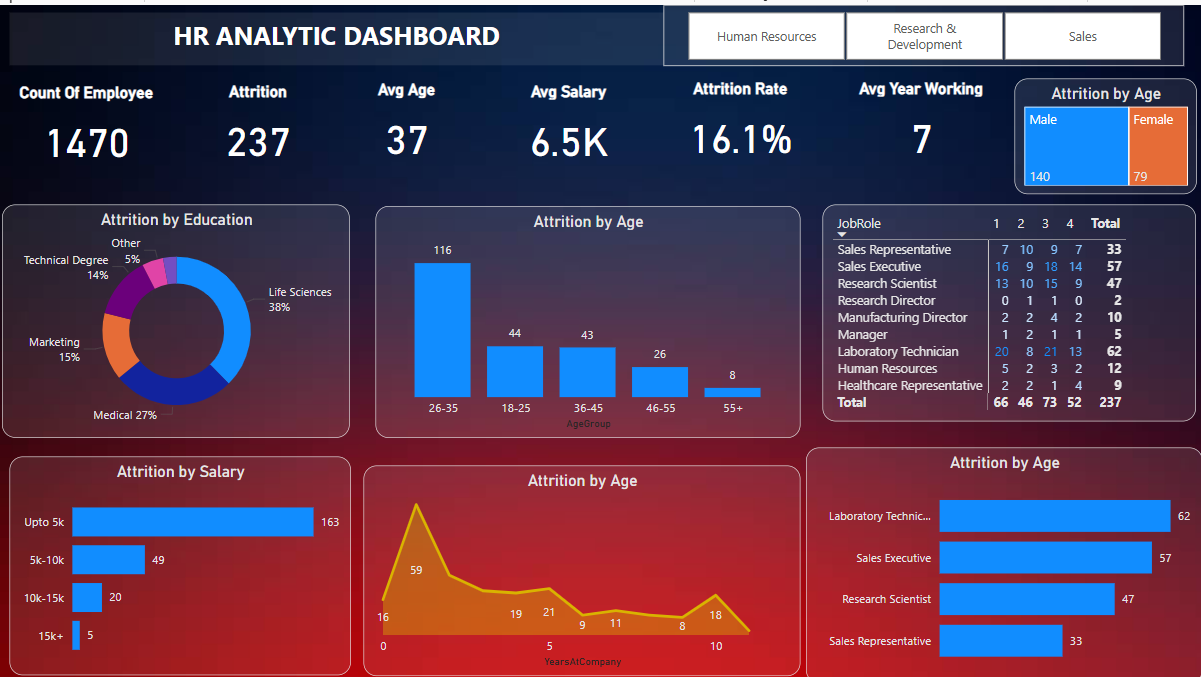

What the dashboard file says about the page in this screenshot:
{"tool":"powerbi","page":{"name":"Page 1","canvas":[1280,720],"ordinal":0},"visuals":[{"type":"card","title":"Count Of Employee","fields":{"Values":["CountNonNull(HR_Analytics.EmpID)"]},"box":[14.6,82,162.9,99.1],"z":0},{"type":"card","title":"Attrition","fields":{"Values":["Sum(HR_Analytics.AttritionCount)"]},"box":[201.7,81.5,151.6,98.7],"z":1000},{"type":"card","title":"Attrition Rate","fields":{"Values":["HR_Analytics.AttritionRate"]},"box":[707.9,78.7,163,100.1],"z":2000},{"type":"card","title":"Avg Age","fields":{"Values":["Avg(HR_Analytics.Age)"]},"box":[353.3,80.1,164.5,98.7],"z":3000},{"type":"card","title":"Avg Salary","fields":{"Values":["Avg(HR_Analytics.MonthlyIncome)"]},"box":[524.9,81.5,164.5,98.7],"z":4000},{"type":"card","title":"Avg Year Working","fields":{"Values":["Avg(HR_Analytics.YearsAtCompany)"]},"box":[898.1,78.7,164.5,98.7],"z":5000},{"type":"donutChart","title":" Attrition by Education","fields":{"Category":["HR_Analytics.EducationField"],"Y":["Sum(HR_Analytics.AttritionCount)"]},"box":[7.2,211.7,369,247.4],"z":6000},{"type":"columnChart","title":" Attrition by Age","fields":{"Category":["HR_Analytics.AgeGroup"],"Y":["Sum(HR_Analytics.AttritionCount)"]},"box":[401.9,213.1,450.5,246],"z":7000},{"type":"pivotTable","fields":{"Rows":["HR_Analytics.JobRole"],"Columns":["HR_Analytics.JobSatisfaction"],"Values":["Sum(HR_Analytics.AttritionCount)"]},"box":[876.7,211.7,396.2,230.3],"z":8000},{"type":"barChart","title":" Attrition by Salary","fields":{"Category":["HR_Analytics.SalarySlab"],"Y":["Sum(HR_Analytics.AttritionCount)"]},"box":[14.3,479.1,361.8,231.7],"z":9000},{"type":"barChart","title":" Attrition by Age","fields":{"Y":["Sum(HR_Analytics.AttritionCount)"],"Category":["HR_Analytics.JobRole"]},"box":[859.5,469.1,420.5,250.3],"z":10000},{"type":"stackedAreaChart","title":" Attrition by Age","fields":{"Category":["HR_Analytics.YearsAtCompany"],"Y":["Sum(HR_Analytics.AttritionCount)"]},"box":[389,487.7,463.4,223.1],"z":10001},{"type":"treemap","title":" Attrition by Age","fields":{"Group":["HR_Analytics.Gender"],"Values":["Sum(HR_Analytics.AttritionCount)"]},"box":[1079.8,78.7,193.1,123],"z":10002},{"type":"slicer","fields":{"Values":["HR_Analytics.Department"]},"box":[707.9,0,552,64.4],"z":10003},{"type":"textbox","box":[14.3,8.6,693.6,55.8],"z":10004}]}

Visuals, with their boxes in screenshot pixels (x1, y1, x2, y2), scaled from the page's 1280x720 canvas onto the 1201x677 screenshot:
"Count Of Employee" card: (left=14, top=77, right=167, bottom=170)
"Attrition" card: (left=189, top=77, right=331, bottom=169)
"Attrition Rate" card: (left=664, top=74, right=817, bottom=168)
"Avg Age" card: (left=331, top=75, right=486, bottom=168)
"Avg Salary" card: (left=493, top=77, right=647, bottom=169)
"Avg Year Working" card: (left=843, top=74, right=997, bottom=167)
" Attrition by Education" donutChart: (left=7, top=199, right=353, bottom=432)
" Attrition by Age" columnChart: (left=377, top=200, right=800, bottom=432)
pivotTable - HR_Analytics.JobRole x HR_Analytics.JobSatisfaction: (left=823, top=199, right=1194, bottom=416)
" Attrition by Salary" barChart: (left=13, top=450, right=353, bottom=668)
" Attrition by Age" barChart: (left=806, top=441, right=1200, bottom=676)
" Attrition by Age" stackedAreaChart: (left=365, top=459, right=800, bottom=668)
" Attrition by Age" treemap: (left=1013, top=74, right=1194, bottom=190)
slicer - HR_Analytics.Department: (left=664, top=0, right=1182, bottom=61)
textbox: (left=13, top=8, right=664, bottom=61)
